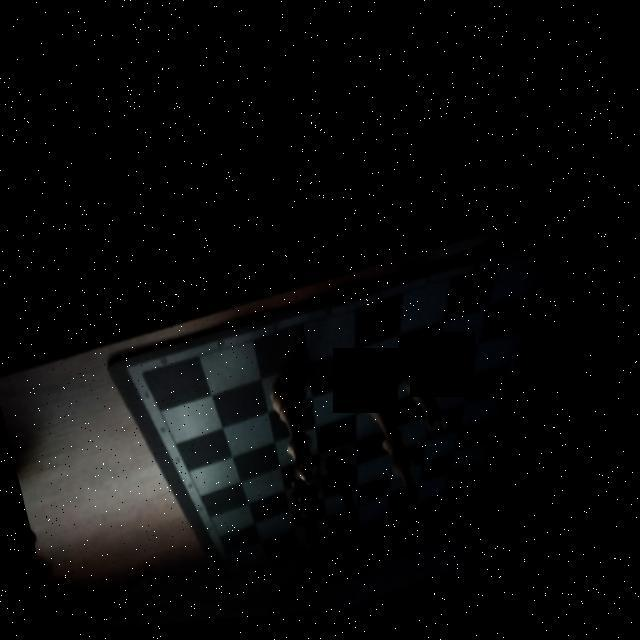chess-table-corners: (130, 360, 158, 390), (531, 253, 556, 280), (467, 478, 489, 502), (224, 566, 244, 588)
